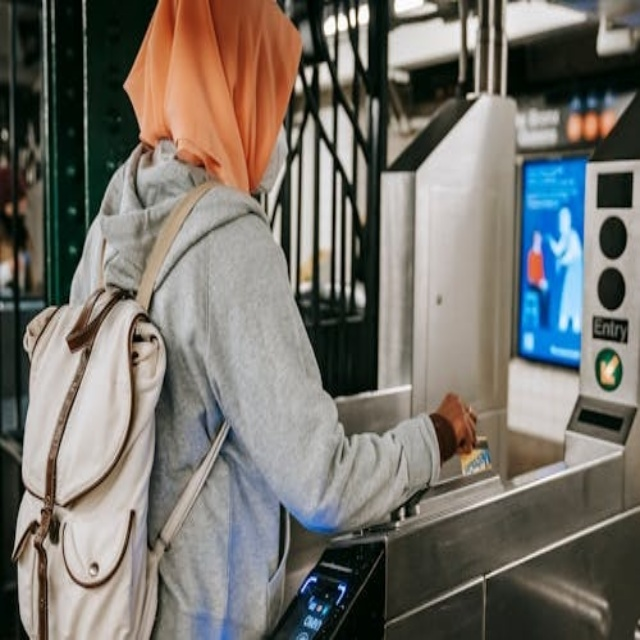Mascara: (251, 111, 293, 198)
Sin_guantes: (430, 391, 478, 463)
